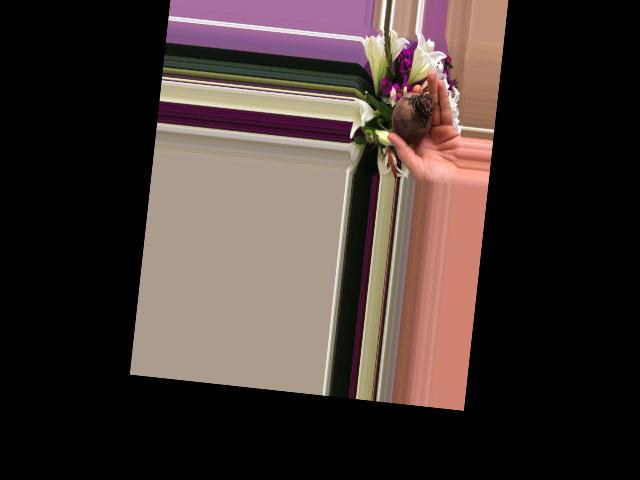beet: (376, 88, 435, 146)
